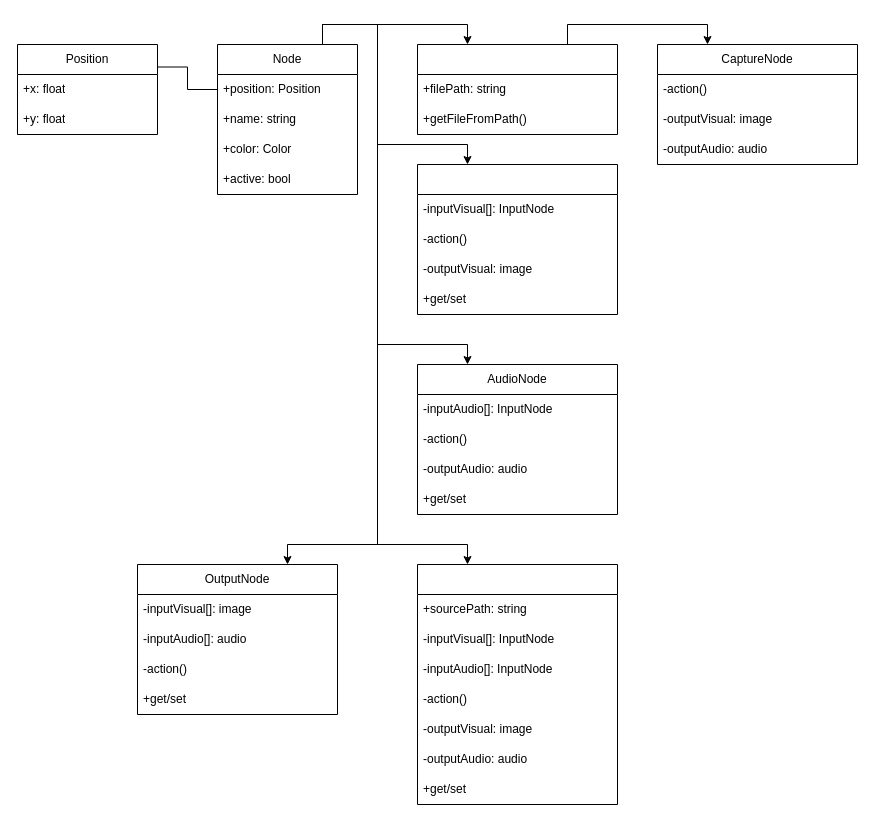
Some shapes in this 875 by 822 pixel diagram are drawn without their labels. The box of each missing label's shape, as (x1, y1, x2, y2) in pixels:
InputNode: (416, 44, 618, 134)
OnlineNode: (416, 564, 618, 804)
VisualNode: (416, 164, 618, 314)
